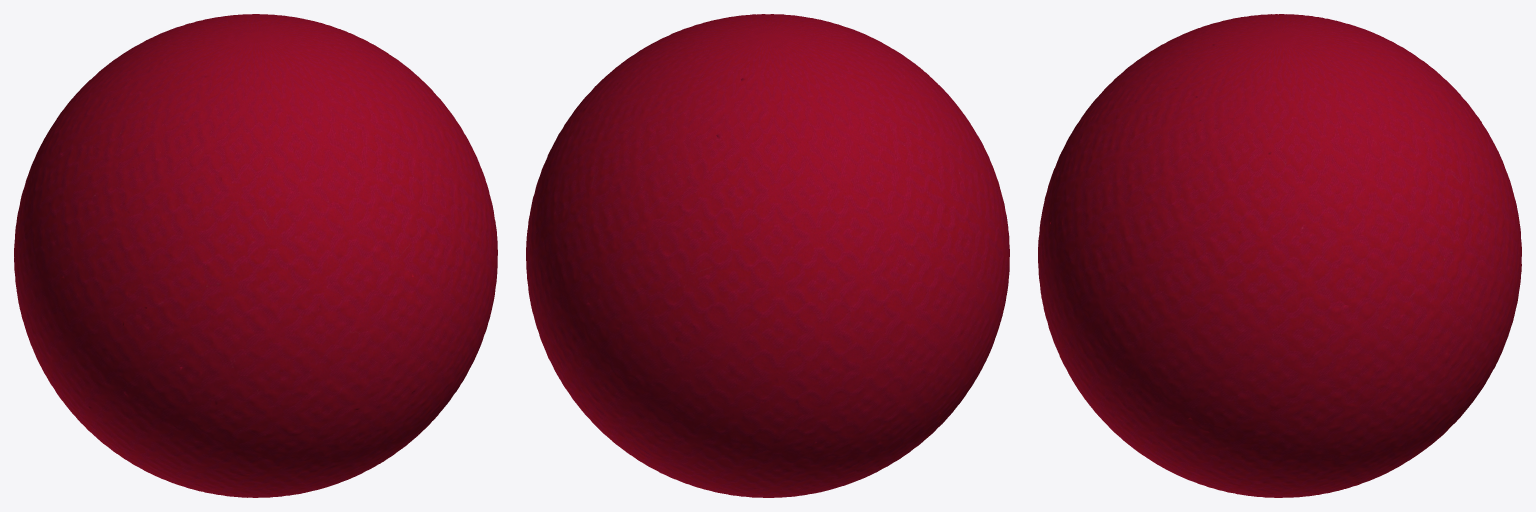
The model's file is quatrefoil_jacquard_fabric_1k.gltf.
3 views of the same model, side by side, from view 1: azimuth 30°, elevation 25°; view 2: azimuth 150°, elevation 25°; view 3: azimuth 270°, elevation 25° (orthographic).
Visible parts, largest first — view 1: sphere_gltf; view 2: sphere_gltf; view 3: sphere_gltf.
Boxes of the visible parts, box(x1,y1,x2,y2) form: sphere_gltf: box(14, 14, 497, 497); sphere_gltf: box(526, 14, 1009, 497); sphere_gltf: box(1038, 14, 1521, 497).
Size of the model in its own units: 0.284 by 0.2839 by 0.2839.
Materials: 1 (1 with a texture image).
